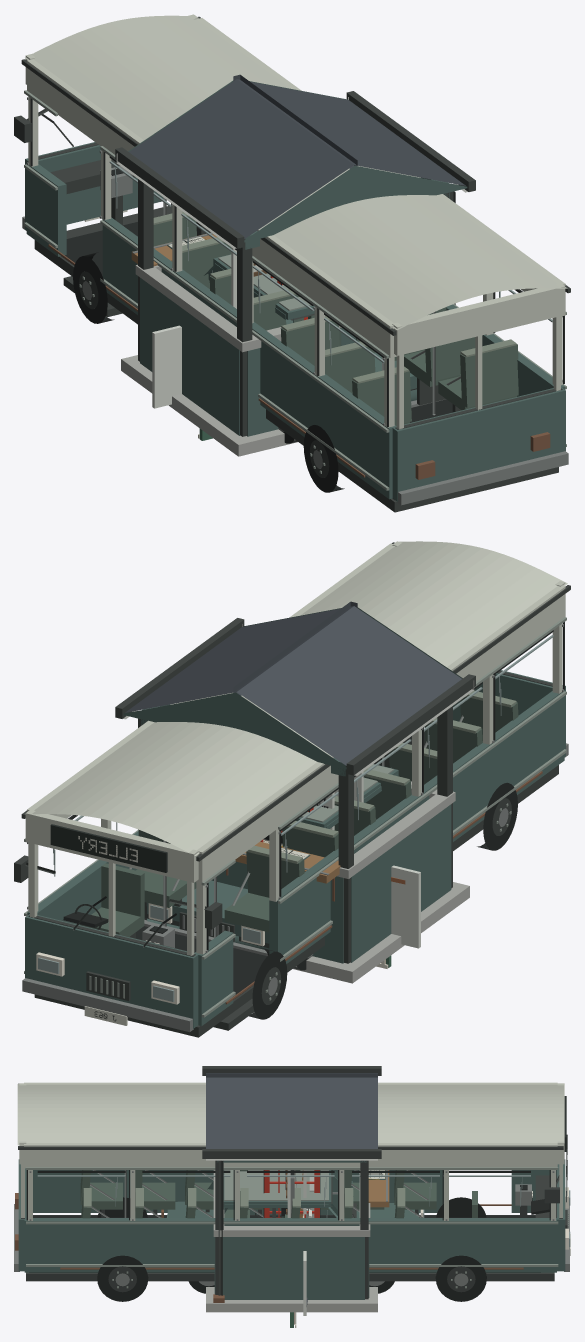
File: previous.glb
The picture shows the model from 3 angles, top to bottom: view 1: azimuth 30°, elevation 25°; view 2: azimuth 150°, elevation 25°; view 3: azimuth 270°, elevation 25°; orthographic projection. The views are drawn at different scales.
Visible parts, largest first — view 1: lettering_before_outskirts_bus, lettering_before_outskirts_lodge, lettering_before_vigil_part_banner, lettering_before_outskirts_car; view 2: lettering_before_outskirts_bus, lettering_before_outskirts_lodge, lettering_before_outskirts_car, lettering_before_vigil_part_banner; view 3: lettering_before_outskirts_bus, lettering_before_outskirts_lodge, lettering_before_outskirts_car, lettering_before_city_phone_box.
Part boxes in pixels (left/top/right/bottom): lettering_before_outskirts_bus: left=14, top=14, right=570, bottom=512; lettering_before_outskirts_lodge: left=115, top=74, right=475, bottom=456; lettering_before_vigil_part_banner: left=152, top=325, right=181, bottom=408; lettering_before_outskirts_car: left=204, top=254, right=445, bottom=443; lettering_before_outskirts_bus: left=14, top=541, right=570, bottom=1037; lettering_before_outskirts_lodge: left=115, top=601, right=475, bottom=983; lettering_before_outskirts_car: left=144, top=764, right=398, bottom=970; lettering_before_vigil_part_banner: left=391, top=865, right=420, bottom=948; lettering_before_outskirts_bus: left=14, top=1082, right=570, bottom=1301; lettering_before_outskirts_lodge: left=202, top=1066, right=389, bottom=1312; lettering_before_outskirts_car: left=161, top=1170, right=424, bottom=1293; lettering_before_city_phone_box: left=263, top=1170, right=320, bottom=1217.
Size of the model in its own units: 3.8 by 4.07 by 9.38.
